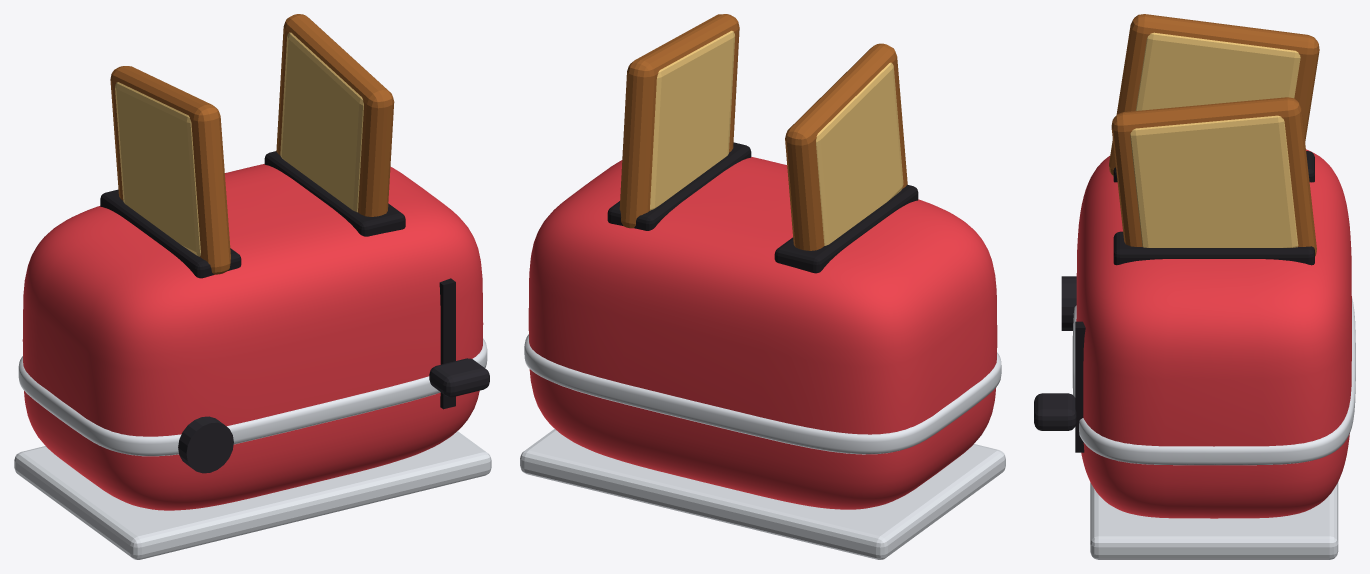
File: tostadora.glb
3 views of the same model, side by side, from view 1: azimuth 30°, elevation 25°; view 2: azimuth 150°, elevation 25°; view 3: azimuth 270°, elevation 25° (orthographic).
Visible parts, largest first — view 1: cuerpo, zocalo, tostada0, tostada1, franja, corteza0, corteza1, rueda, ranura1, ranura0, palanca, guia; view 2: cuerpo, zocalo, tostada0, tostada1, franja, corteza1, corteza0, ranura0, ranura1; view 3: cuerpo, tostada1, zocalo, tostada0, corteza1, franja, corteza0, ranura1, palanca, guia, rueda.
Boxes of the visible parts, box(x1,y1,x2,y2) form: cuerpo: box(22, 164, 483, 510); zocalo: box(14, 431, 491, 559); tostada0: box(115, 82, 200, 256); tostada1: box(280, 32, 363, 212); franja: box(18, 338, 487, 456); corteza0: box(110, 66, 230, 274); corteza1: box(276, 14, 394, 216); rueda: box(178, 416, 233, 473); ranura1: box(264, 151, 405, 236); ranura0: box(100, 189, 241, 278); palanca: box(429, 358, 489, 397); guia: box(439, 278, 455, 409); cuerpo: box(528, 157, 997, 509); zocalo: box(520, 429, 1005, 559); tostada0: box(816, 62, 903, 245); tostada1: box(650, 30, 734, 210); franja: box(524, 334, 1001, 454); corteza1: box(619, 14, 739, 228); corteza0: box(785, 43, 907, 250); ranura0: box(774, 184, 918, 273); ranura1: box(607, 142, 751, 230); cuerpo: box(1076, 149, 1351, 518); tostada1: box(1130, 115, 1298, 247); zocalo: box(1090, 482, 1338, 559); tostada0: box(1135, 32, 1300, 110); corteza1: box(1111, 97, 1316, 256); franja: box(1072, 298, 1355, 465); corteza0: box(1109, 14, 1319, 176); ranura1: box(1113, 231, 1314, 265); palanca: box(1034, 393, 1076, 430); guia: box(1075, 321, 1085, 452); rueda: box(1061, 276, 1076, 330).
Bounding box in the file's own units: 0.4272 × 0.4351 × 0.3037.
